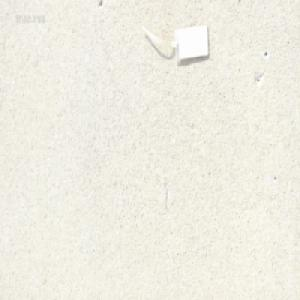LuggageTag: (138, 20, 211, 65)
